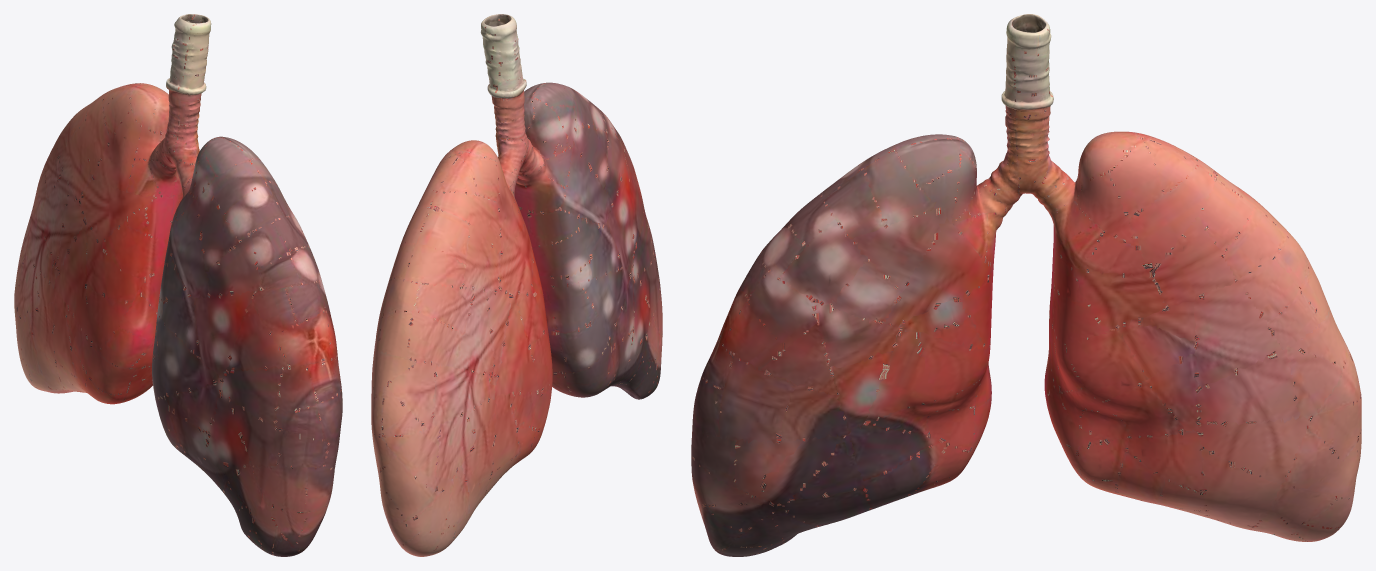
Rendered from pneumonia-lungs.glb.
The picture shows the model from 3 angles, left to right: view 1: azimuth 30°, elevation 25°; view 2: azimuth 150°, elevation 25°; view 3: azimuth 270°, elevation 25°; orthographic projection. The views are drawn at different scales.
Parts seen in each view (by area): view 1: PneunoniaLungs; view 2: PneunoniaLungs; view 3: PneunoniaLungs.
Part boxes in pixels (x1=…): PneunoniaLungs: x1=14, y1=14, x2=342, y2=556; PneunoniaLungs: x1=371, y1=14, x2=662, y2=556; PneunoniaLungs: x1=691, y1=14, x2=1361, y2=556.
Bounding box in the file's own units: 0.4788 × 1.82 × 2.
1 material, 1 textured.
